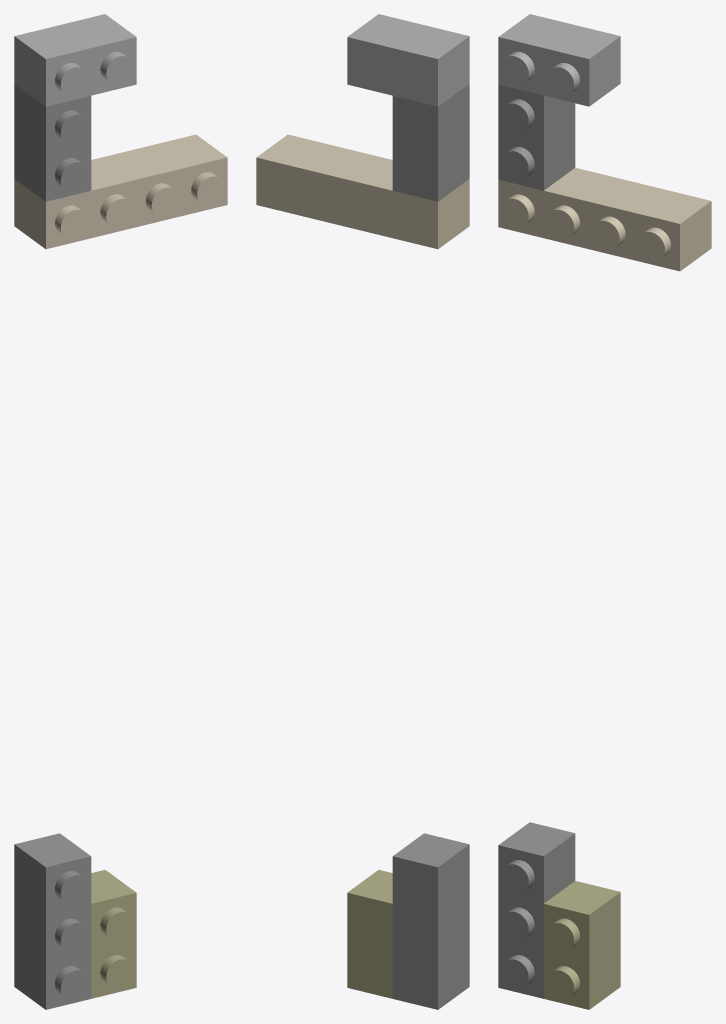
File: current.glb
The picture shows the model from 3 angles, left to right: view 1: azimuth 30°, elevation 25°; view 2: azimuth 150°, elevation 25°; view 3: azimuth 330°, elevation 25°; orthographic projection.
Parts seen in each view (by area): view 1: world; view 2: world; view 3: world.
Part boxes in pixels (bbox=[...]): world: bbox=[14, 14, 227, 1009]; world: bbox=[256, 14, 469, 1009]; world: bbox=[498, 14, 711, 1009].
Size of the model in its own units: 32 by 160 by 11.4.
